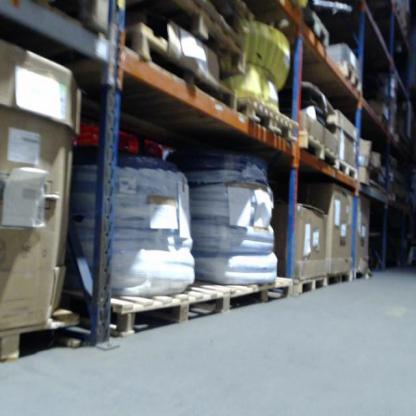pallet: (125, 25, 238, 112), (108, 281, 227, 339), (161, 0, 246, 74), (0, 304, 83, 364), (237, 95, 298, 143), (225, 277, 293, 315), (298, 130, 338, 169), (302, 6, 331, 48), (335, 58, 362, 93), (293, 274, 327, 298), (335, 157, 357, 181), (327, 270, 351, 288)
